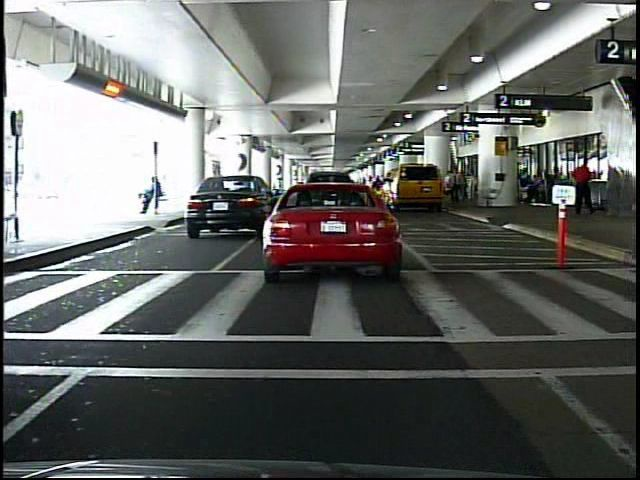person: (629, 126, 638, 294), (573, 158, 592, 217)
